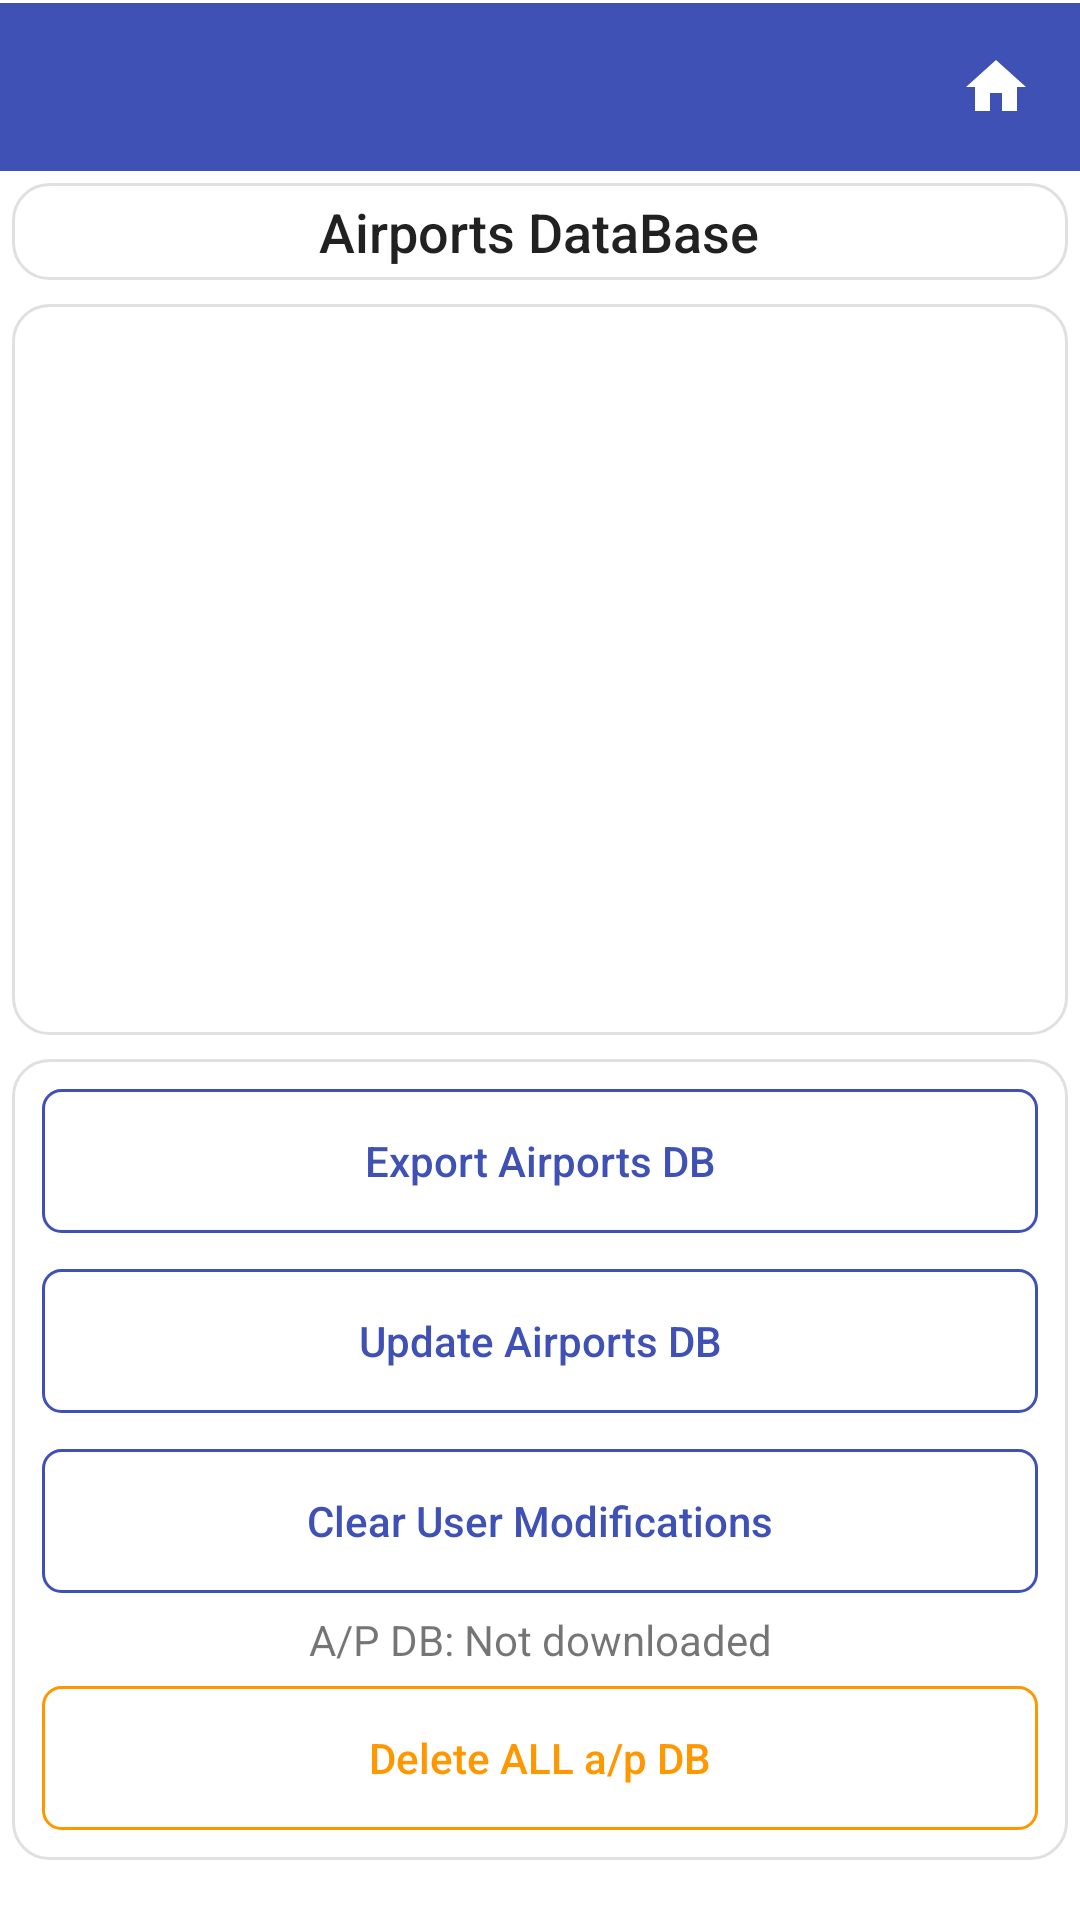

Where icons sit on this 1080x1920 app screen, as (x1, y1, x2, y2):
Home: (966, 60, 1026, 111)
